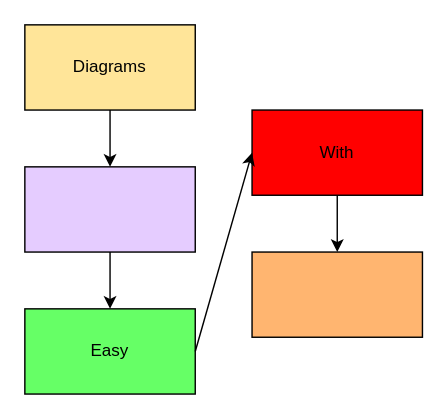
This 447x419 diagram has some shape labels left out. The centre of each missing label's shape, as x and y in pixels:
"Are" goes at pixel 109 208.
"draw.io" goes at pixel 336 294.
